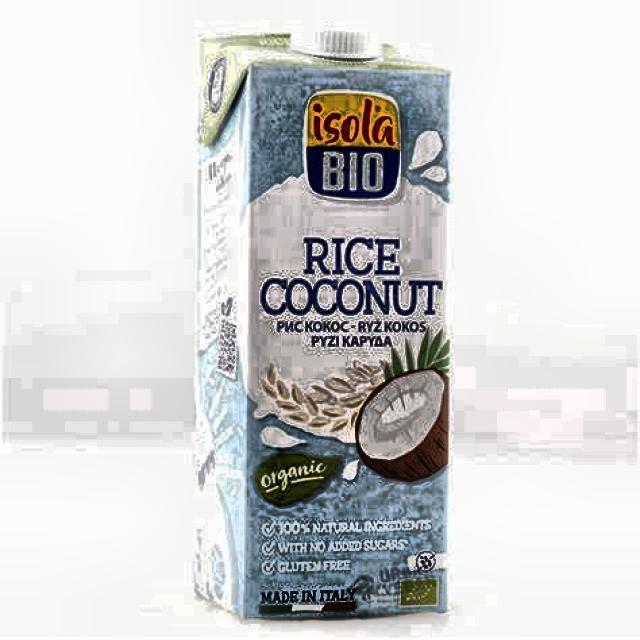cardboard: (192, 31, 452, 620)
